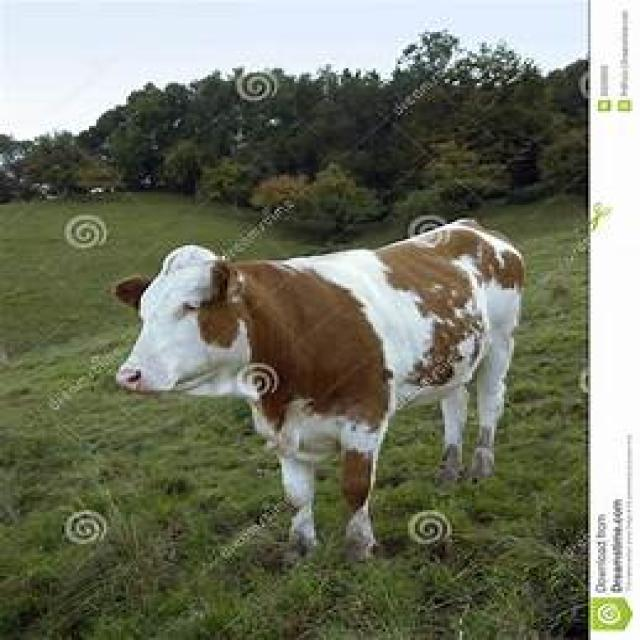animal: (111, 216, 526, 563)
